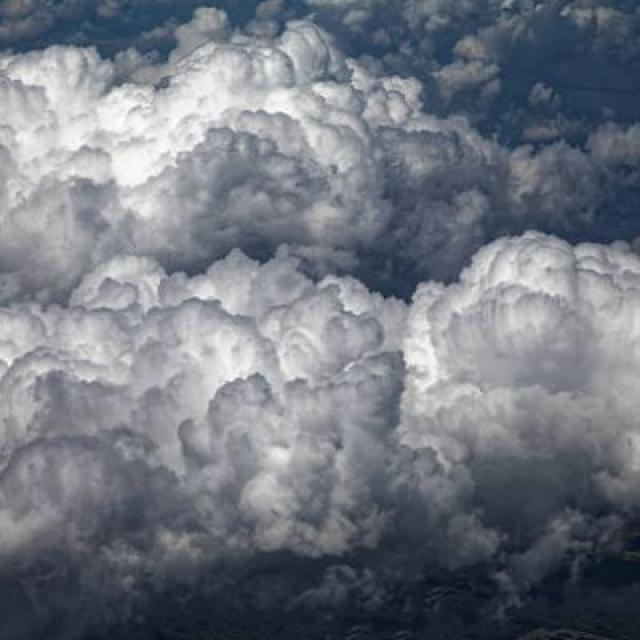St: (7, 227, 640, 640)
